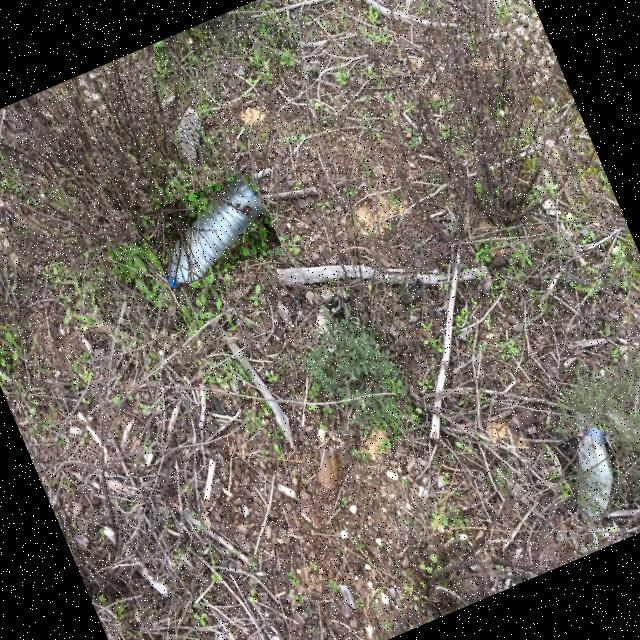Clear plastic bottle: (167, 172, 265, 287), (578, 426, 614, 519)
